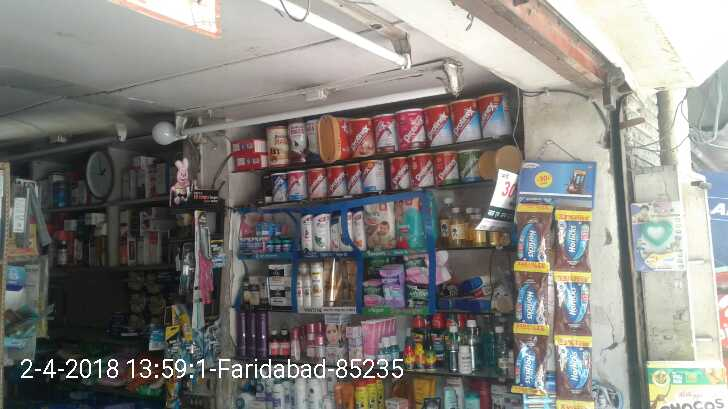oralcare: (4, 302, 53, 339)
vicks: (256, 221, 273, 235), (257, 237, 268, 253), (247, 236, 256, 254), (238, 237, 248, 253), (275, 223, 286, 234), (283, 240, 291, 252), (275, 240, 283, 252), (268, 240, 275, 253)
